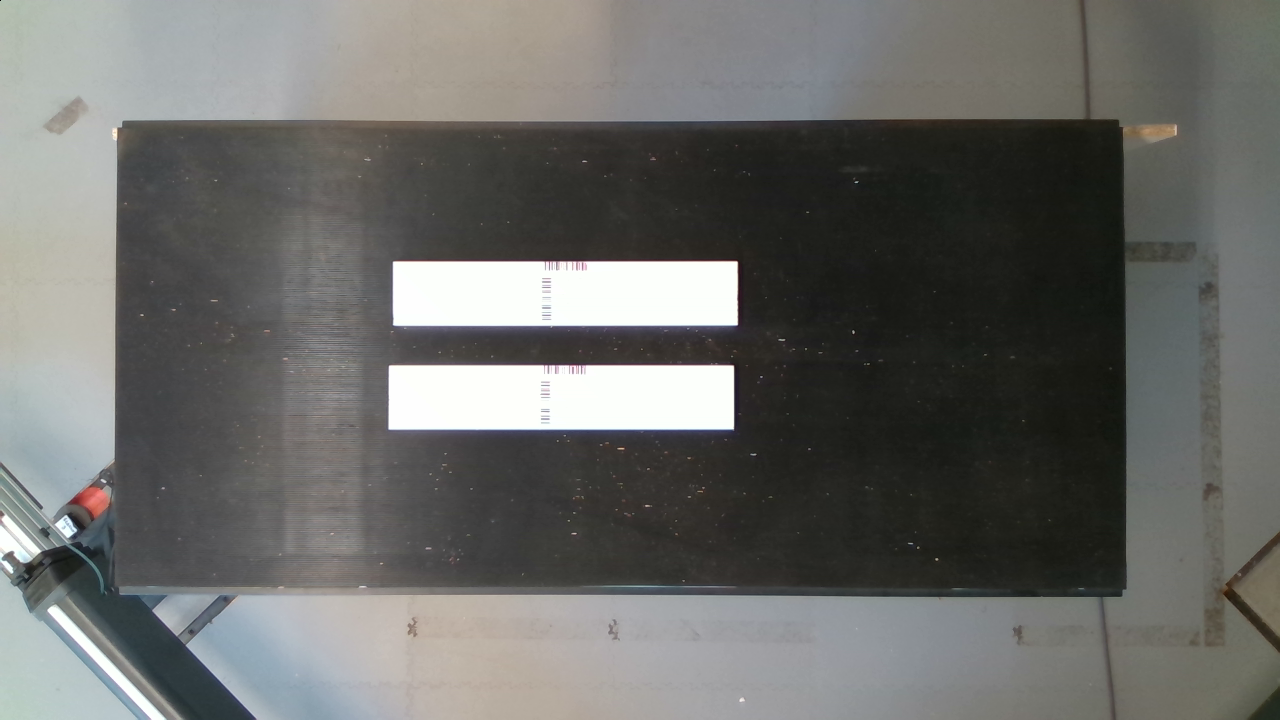barcode: (533, 361, 615, 436), (526, 253, 606, 328)
part1: (377, 355, 751, 454), (380, 248, 751, 342)
